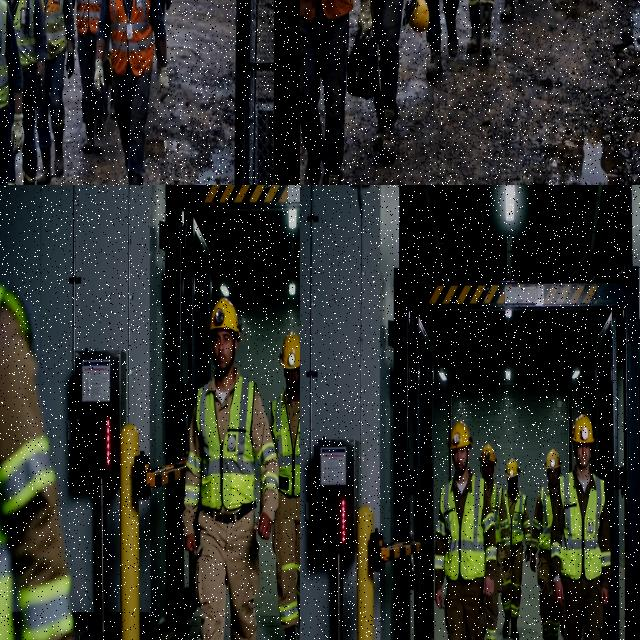Vest: (0, 437, 55, 639), (197, 377, 256, 510), (440, 475, 493, 580), (560, 473, 604, 580), (109, 0, 154, 76), (272, 396, 299, 496), (11, 0, 36, 71), (41, 0, 65, 60), (506, 493, 525, 545), (76, 0, 101, 36), (0, 0, 8, 109), (539, 488, 552, 551), (491, 483, 503, 544), (321, 0, 353, 20)
Worker: (183, 299, 278, 639), (0, 285, 73, 639), (95, 0, 169, 184), (435, 422, 497, 639), (552, 415, 610, 639), (300, 0, 353, 184), (271, 332, 299, 639), (2, 0, 47, 184), (37, 0, 74, 184), (480, 444, 510, 639), (531, 449, 561, 639), (72, 0, 107, 154), (371, 0, 403, 159), (502, 459, 530, 639), (0, 0, 24, 184), (467, 0, 494, 63), (426, 0, 441, 79), (501, 0, 514, 21), (160, 0, 171, 16), (109, 87, 114, 118)
helmet: (209, 298, 240, 339), (403, 0, 429, 32), (280, 332, 299, 369), (449, 421, 472, 449), (572, 414, 594, 443), (480, 444, 496, 463), (546, 449, 560, 469), (506, 458, 519, 478)
